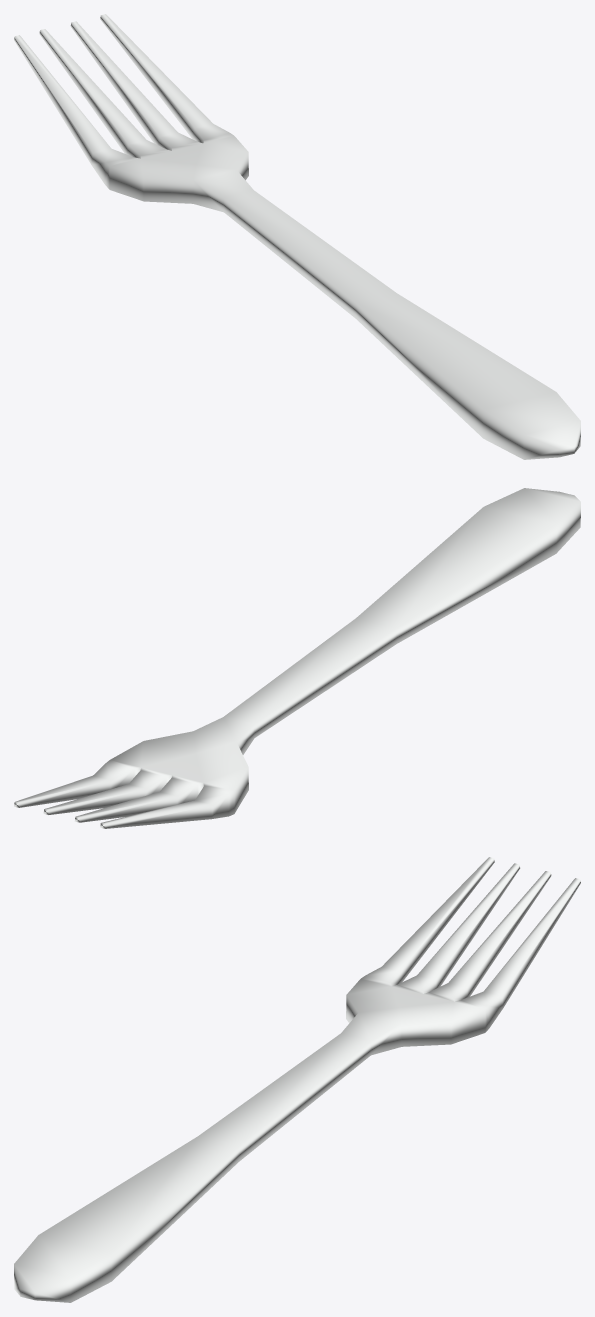
Rendered from fork.fbx.
3 renders of one model, top to bottom at view 1: azimuth 30°, elevation 25°; view 2: azimuth 150°, elevation 25°; view 3: azimuth 330°, elevation 25°, orthographic.
Parts seen in each view (by area): view 1: fork; view 2: fork; view 3: fork.
Part boxes in pixels (bbox=[...]): fork: bbox=[14, 14, 580, 459]; fork: bbox=[14, 488, 580, 828]; fork: bbox=[14, 857, 580, 1302].
Size of the model in its own units: 0.0377 by 0.0197 by 0.2659.
Materials: 1 (1 with a texture image).
